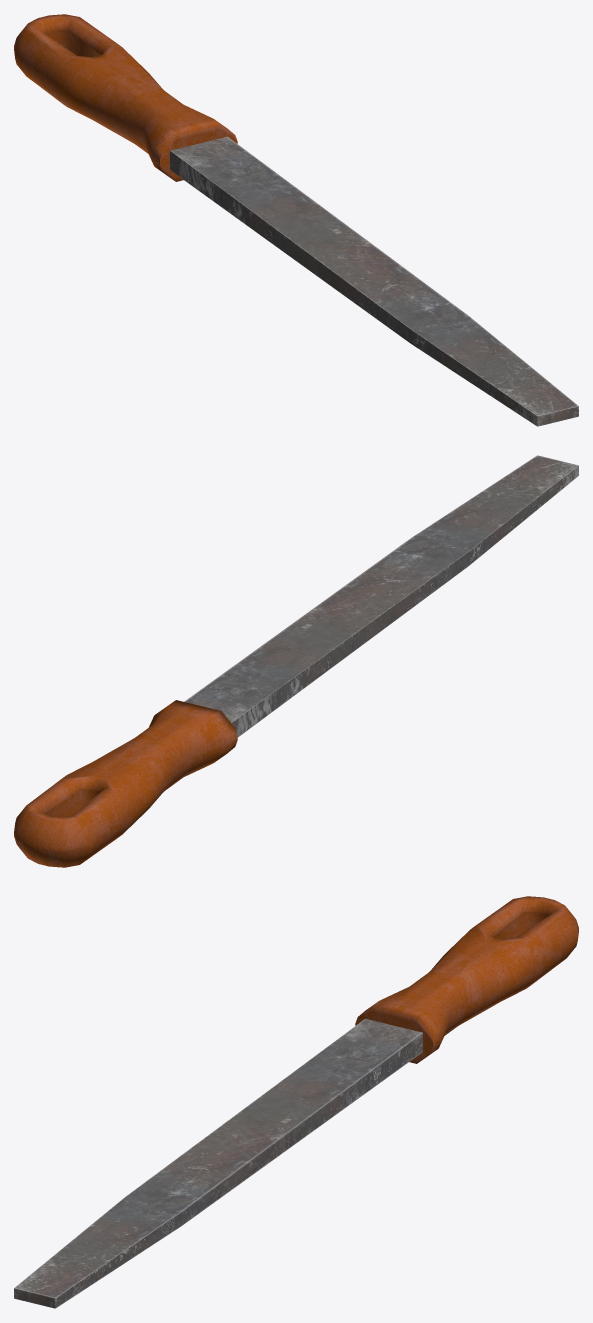
Rendered from Rasp01_2.FBX.
The picture shows the model from 3 angles, top to bottom: view 1: azimuth 30°, elevation 25°; view 2: azimuth 150°, elevation 25°; view 3: azimuth 330°, elevation 25°; orthographic projection.
Parts seen in each view (by area): view 1: Rasp01_2_LOD0; view 2: Rasp01_2_LOD0; view 3: Rasp01_2_LOD0.
Boxes of the visible parts, x1,y1,x2,y2 form: Rasp01_2_LOD0: (14, 14, 578, 426); Rasp01_2_LOD0: (14, 455, 578, 867); Rasp01_2_LOD0: (14, 896, 578, 1308).
Bounding box in the file's own units: 1.73 × 0.9809 × 20.06.
